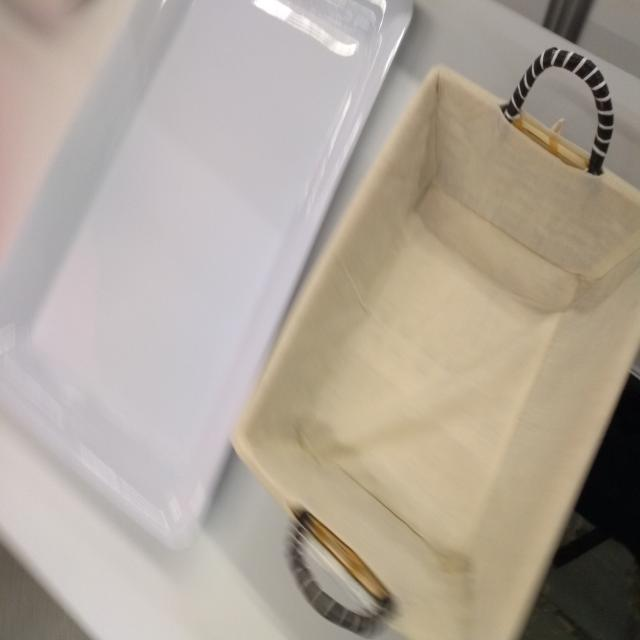basket: (230, 40, 636, 640)
tray: (2, 2, 420, 548)
